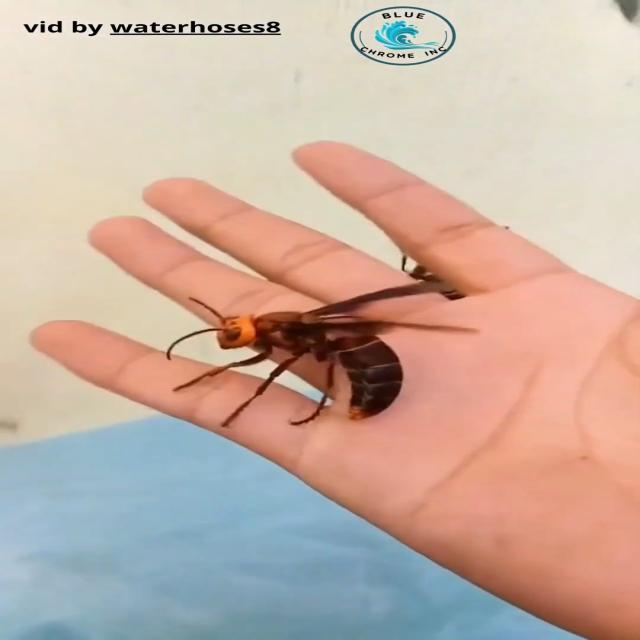Hornets: (163, 282, 478, 429)
